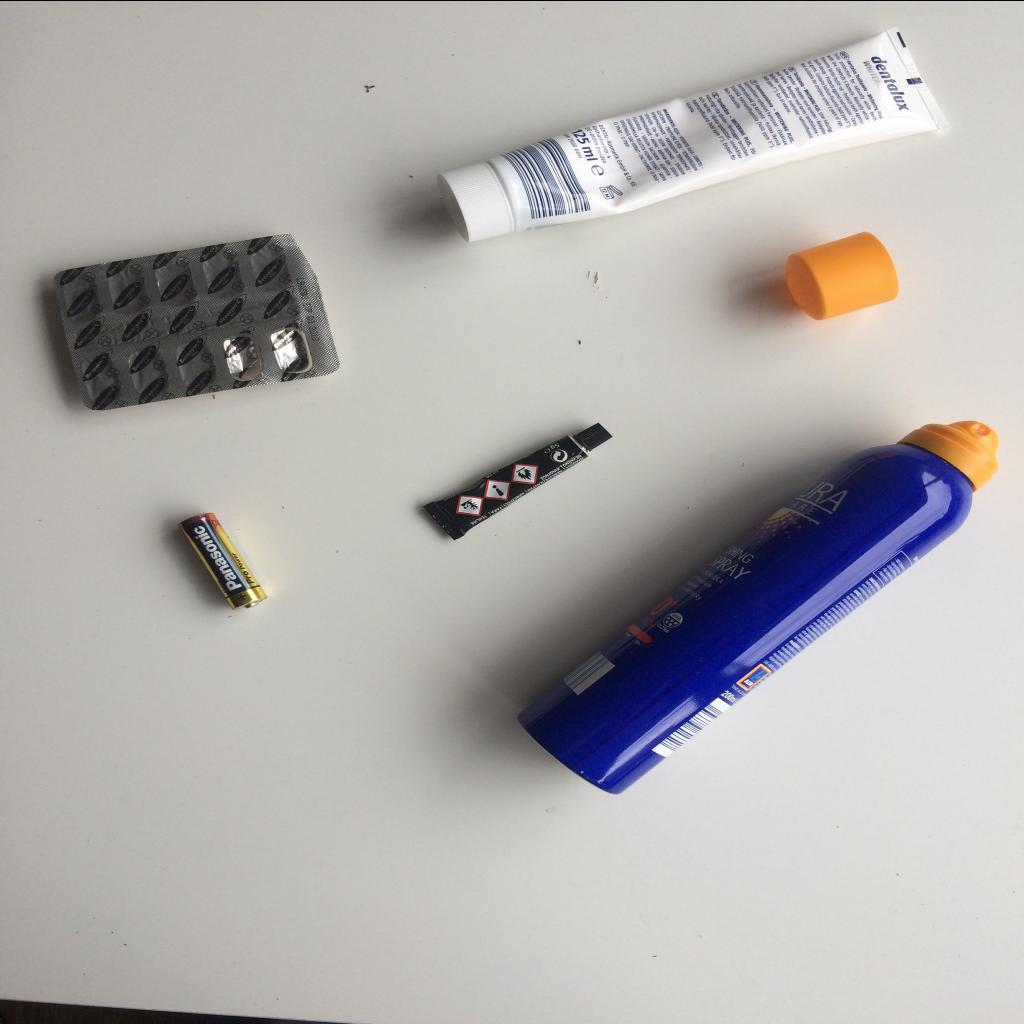Aerosol: (517, 420, 999, 794)
Aluminium blister pack: (54, 233, 340, 410)
Battery: (178, 512, 268, 610)
Plastic bottle cap: (786, 230, 898, 320), (437, 160, 514, 242)
Squeezable tube: (437, 26, 951, 242), (422, 422, 612, 540)
